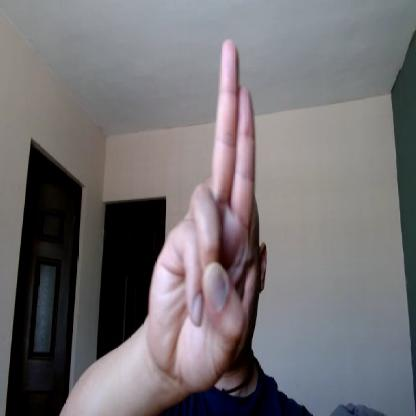U: (150, 37, 255, 393)
